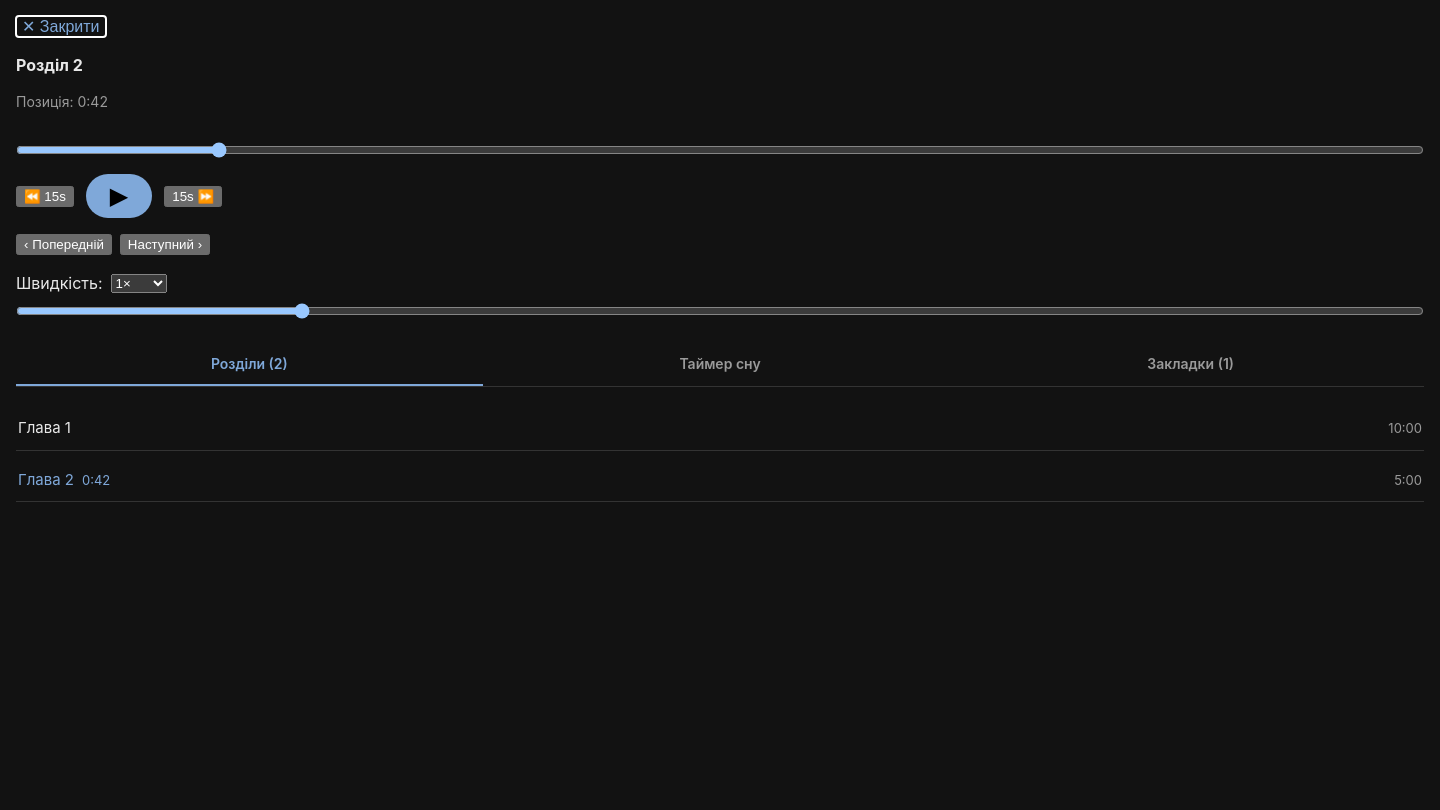
Test case: PlayerSheet panes (W5.1) › hosts the three tabs and reports the honest bookmark count
expect the tab "Розділи (2)" is shown: met, box x1=16 y1=343 x2=483 y2=386
expect the button "Глава 20:42 5:00" is shown: met, box x1=16 y1=458 x2=1424 y2=502
# Bookmarks tab: the seeded bookmark appears and jumps via the engine.
Click the tab "Закладки (1)" at (1191, 364), box x1=957 y1=343 x2=1424 y2=386
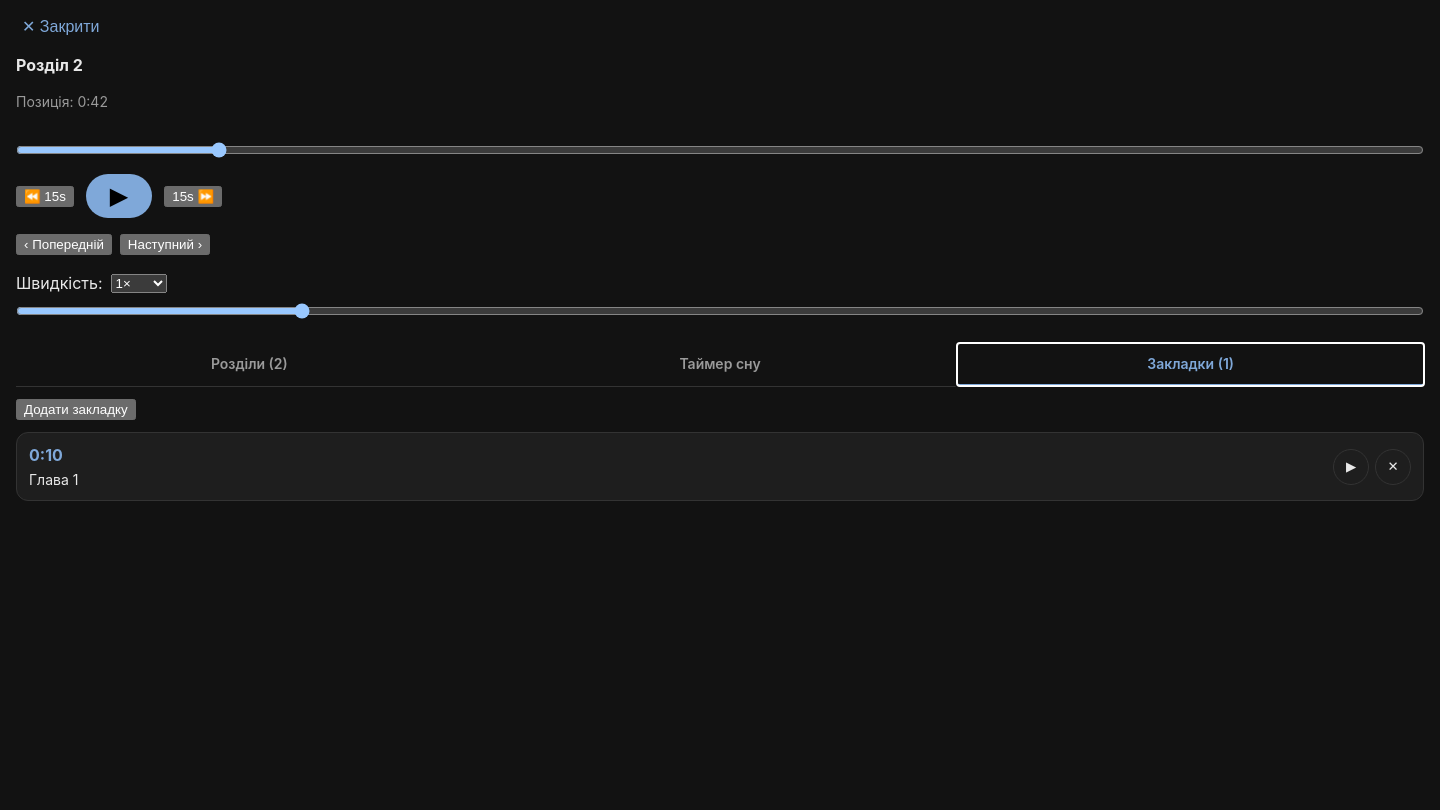
expect the text "0:10" is shown: met, box x1=29 y1=445 x2=63 y2=465
Click the button "▶" in the row of "0:10" at (1351, 466), box x1=1333 y1=448 x2=1369 y2=484
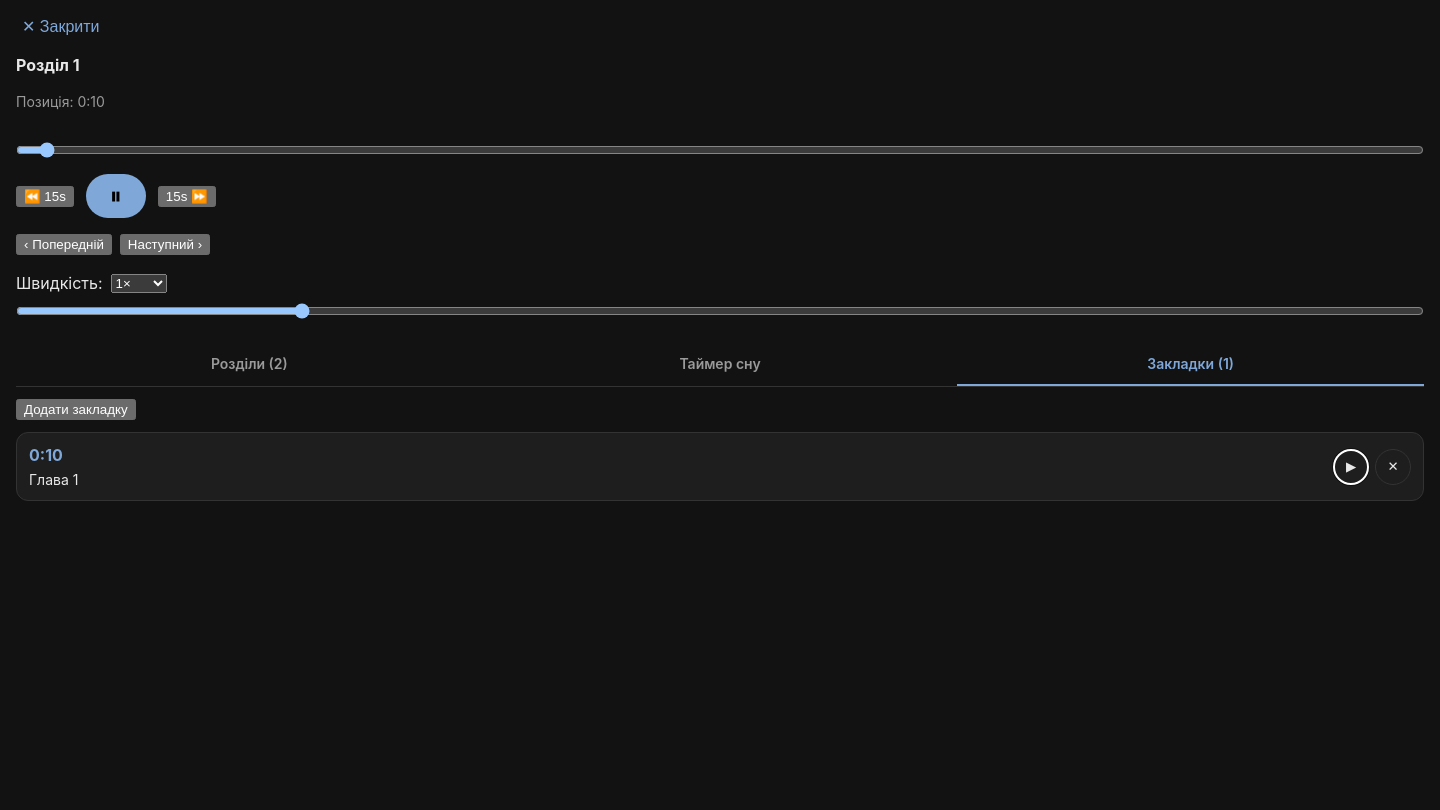
# The sleep timer tab offers Android's options.
Click the tab "Таймер сну" at (720, 364), box x1=487 y1=343 x2=953 y2=386
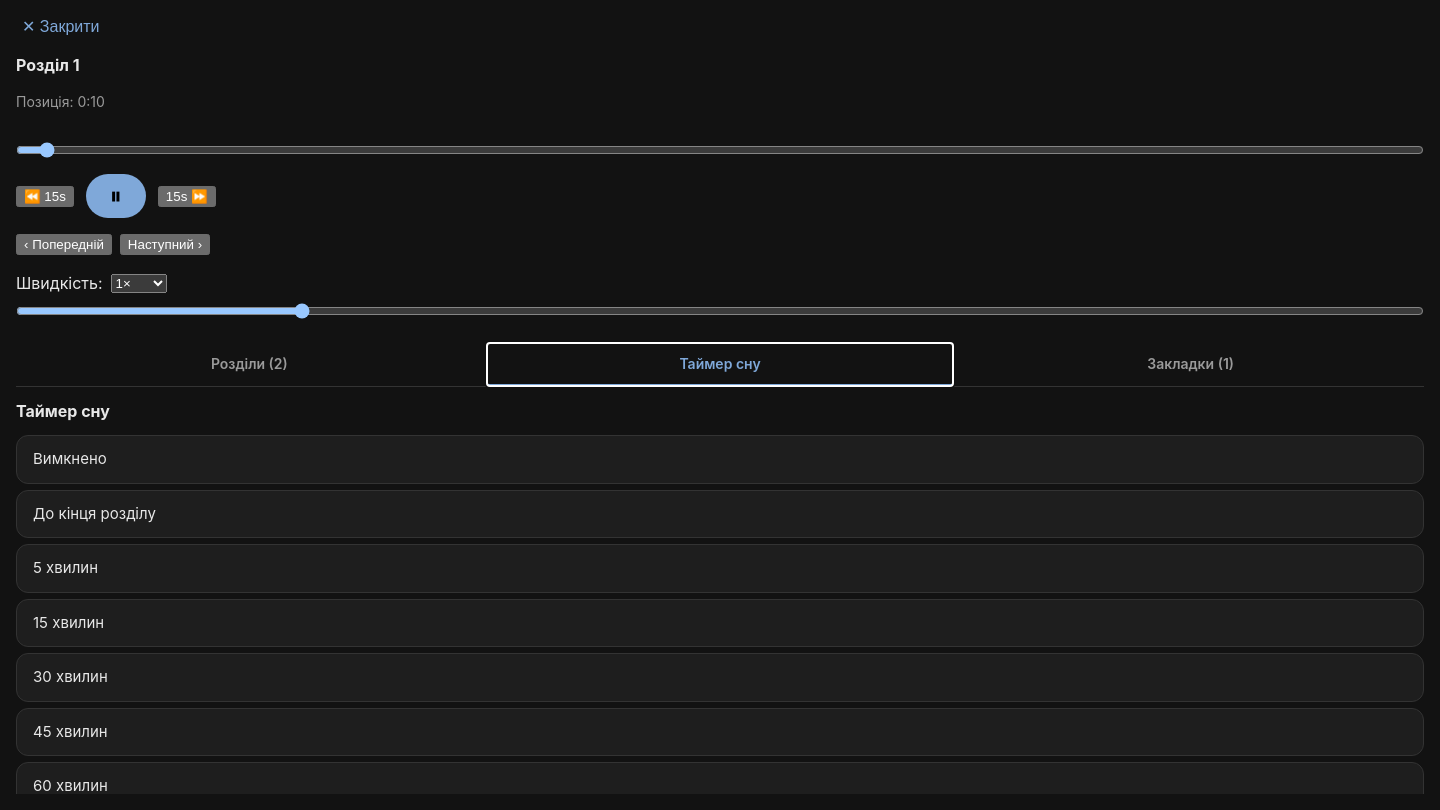
expect the radio button "До кінця розділу" is shown: met, box x1=16 y1=490 x2=1424 y2=538
